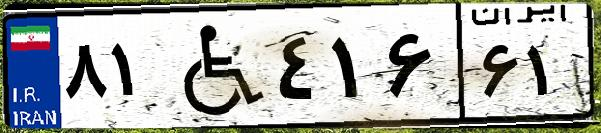1: (330, 28, 385, 110), (525, 38, 570, 115), (110, 28, 158, 98)
4: (270, 28, 330, 110)
6: (385, 28, 445, 110), (475, 38, 525, 113)
8: (57, 26, 110, 100)
ژ (معلولین و جانبازان): (158, 12, 270, 120)
